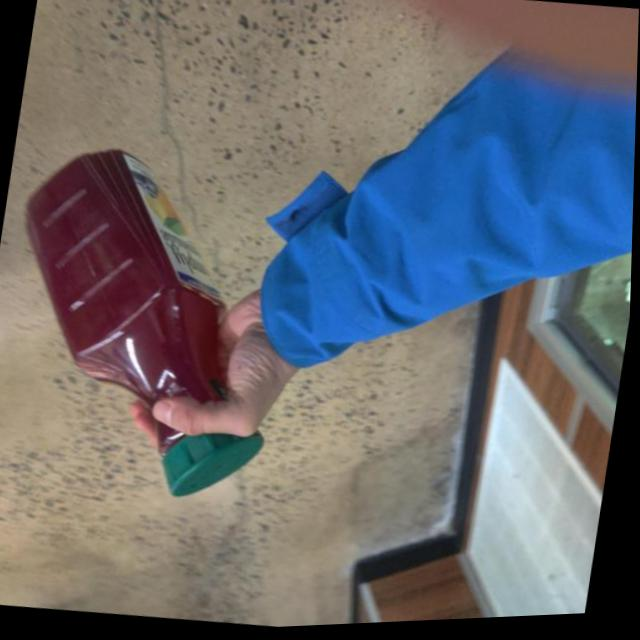Juice: (0, 126, 329, 517)
